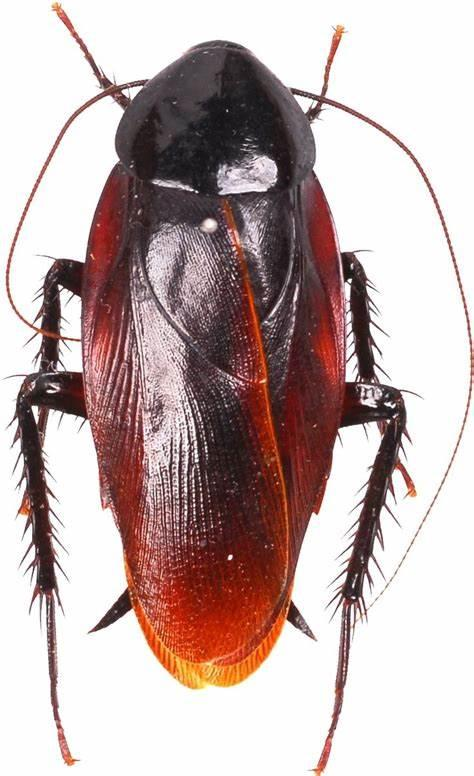cockroach: (10, 30, 427, 698)
